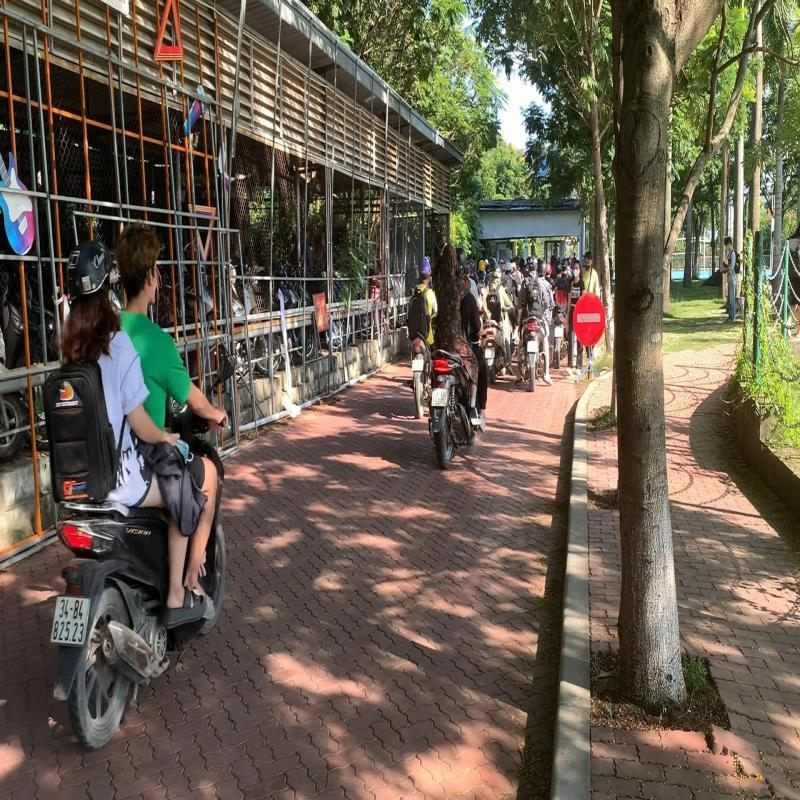helmet: (60, 222, 116, 308)
licenseplate: (48, 588, 92, 651)
motorcyclist: (38, 209, 242, 758)
nohelmet: (114, 219, 167, 310)
